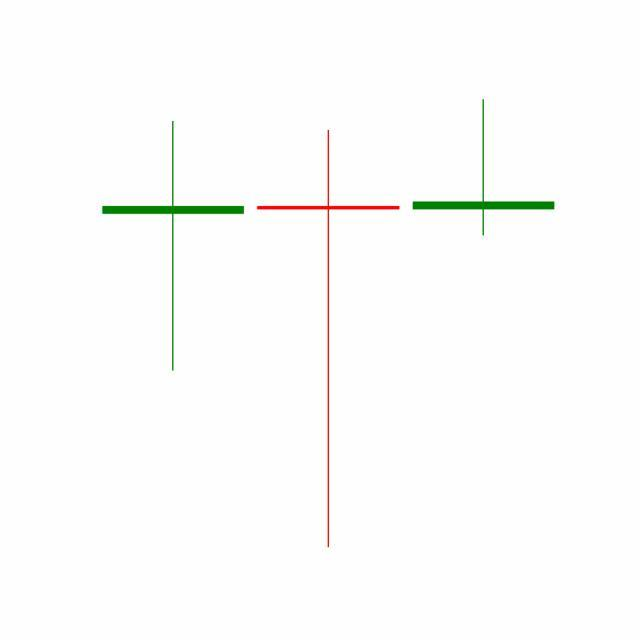Spinning Top: (406, 98, 562, 239)
